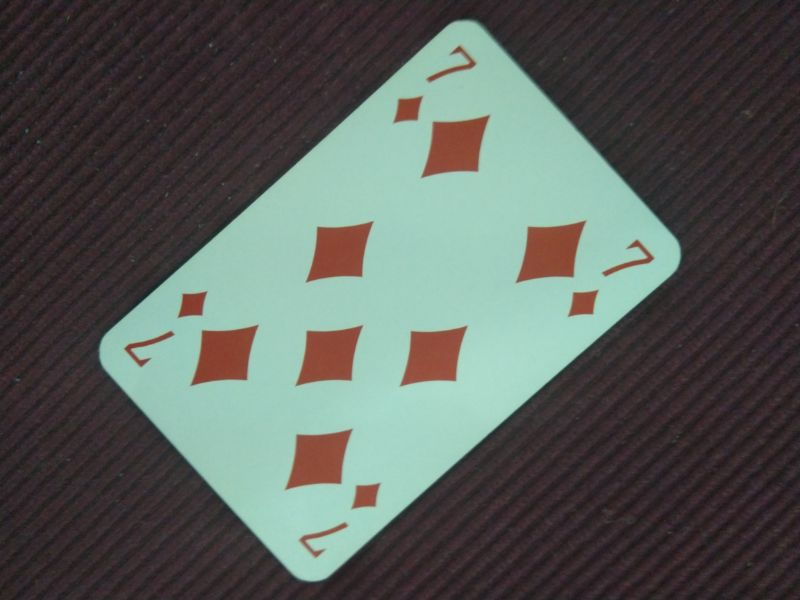7d: (562, 235, 658, 321), (389, 42, 478, 127), (121, 289, 211, 370), (296, 480, 385, 560)
